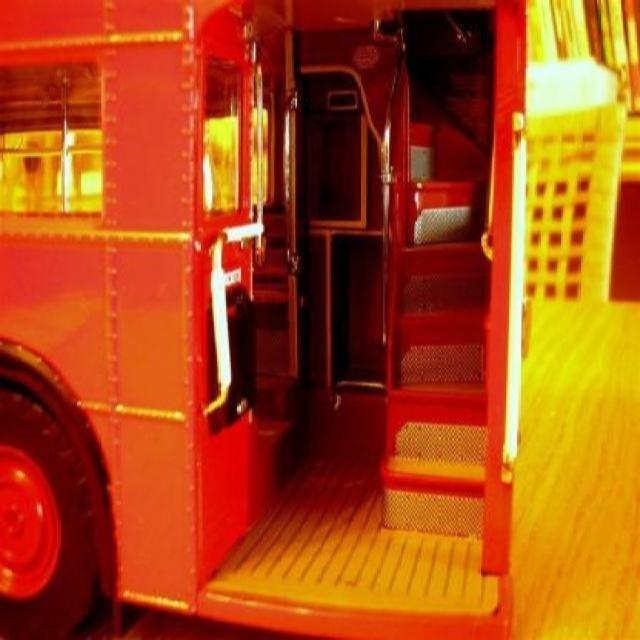stair: (376, 117, 490, 543)
